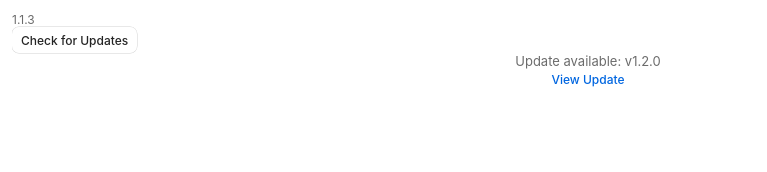
settings show manual results and the backend version in en
This screenshot has width=767, height=172.
Later steps or results of the test are not shown.
Check: the text with class "brand-version" reads "1.1.3", box [12,12,35,27]
Click the button "View Update": (588, 80) [552,72,625,87]
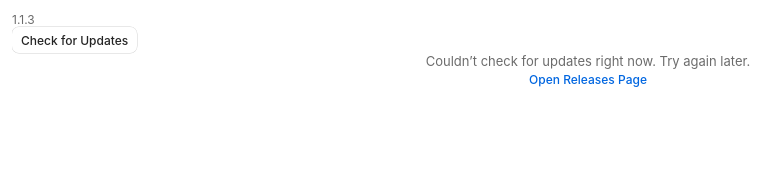
Check: the button "Open Releases Page" is shown, box [529,72,647,87]
Check: the text "Couldn’t check for updates right now. Try again later." is shown, box [426,53,750,69]
